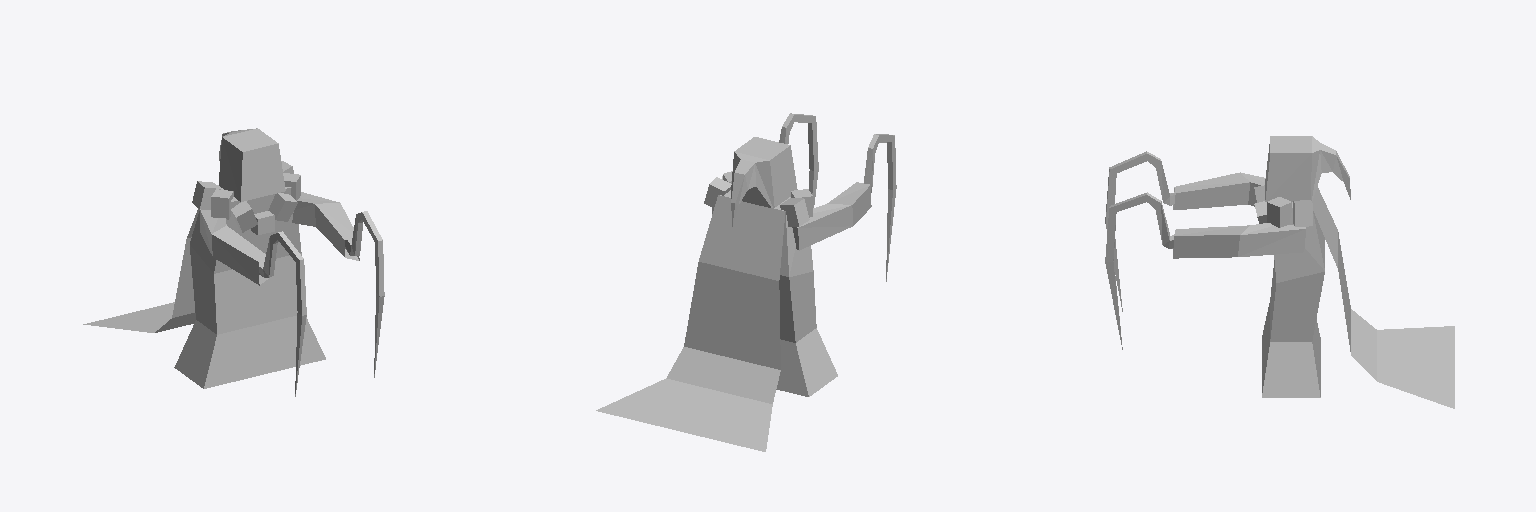
File: phantom.obj
The picture shows the model from 3 angles: view 1: azimuth 30°, elevation 25°; view 2: azimuth 150°, elevation 25°; view 3: azimuth 270°, elevation 25°; orthographic projection.
Visible parts, largest first — view 1: Body, ArmRight, Head, ArmLeft; view 2: Body, ArmRight, Head, ArmLeft; view 3: Body, ArmLeft, Head, ArmRight.
Part boxes in pixels (x1,y1,x2,y2): Body: (83,161,325,388); ArmRight: (200,209,306,396); Head: (219,128,285,201); ArmLeft: (292,192,384,377); Body: (596,173,837,451); ArmRight: (792,134,896,281); Head: (731,137,797,227); ArmLeft: (712,113,818,213); Body: (1254,185,1454,408); ArmLeft: (1105,192,1305,349); Head: (1265,136,1350,201); ArmRight: (1105,151,1265,311).
Size of the model in its own units: 1.52 by 1.9 by 2.7.